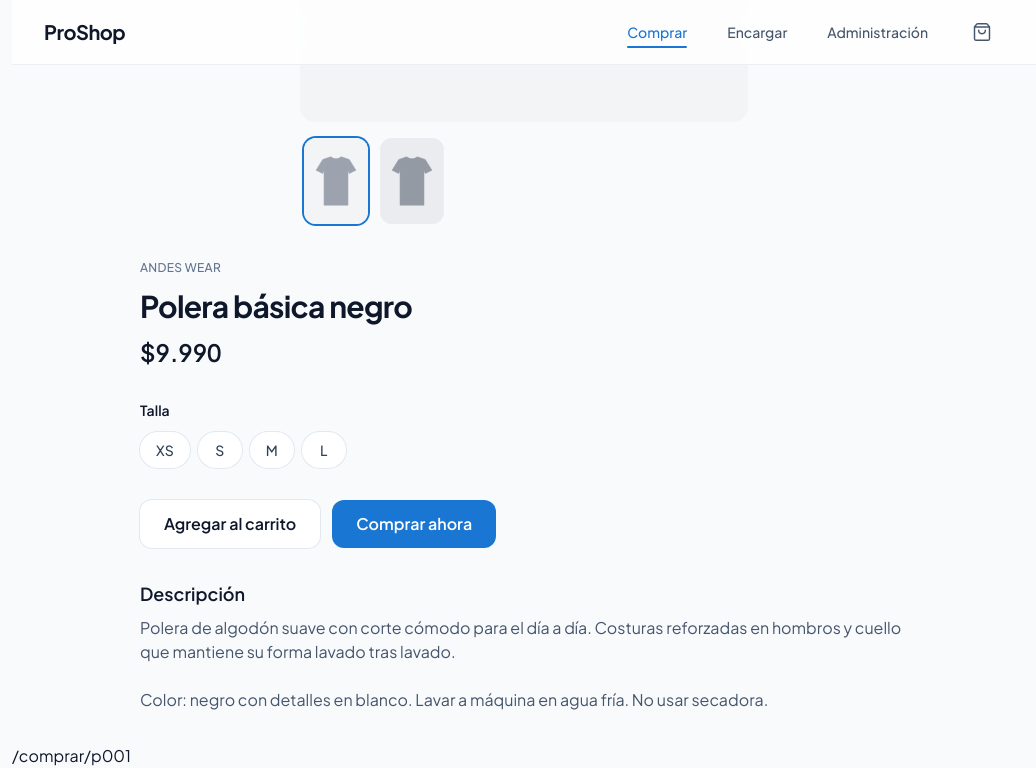
it: Carrito › sin talla, "Agregar al carrito" muestra "Selecciona una talla" y no agrega nada
(page scrolled)
Expected: the heading "Polera básica negro" is shown, [140, 287, 412, 325]
Click the button "Agregar al carrito" at (230, 524), box [140, 500, 320, 548]
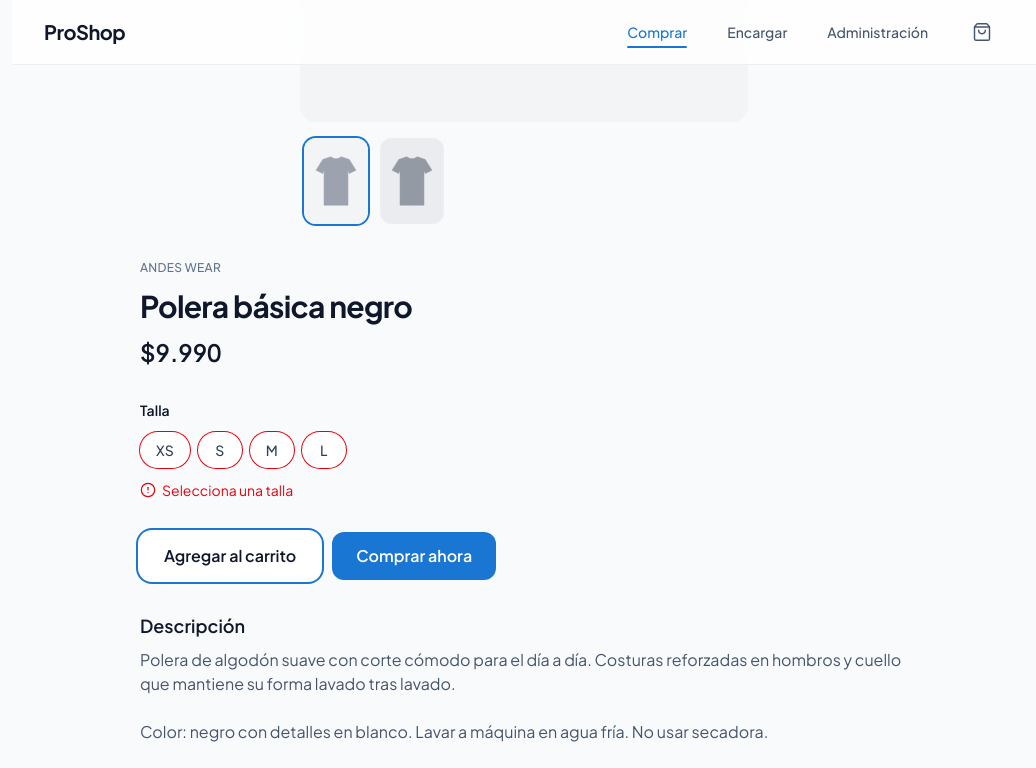
Expected: the text "Selecciona una talla" is shown, [140, 481, 293, 499]
Click the button named "Talla M" at (272, 450), box [250, 432, 294, 468]
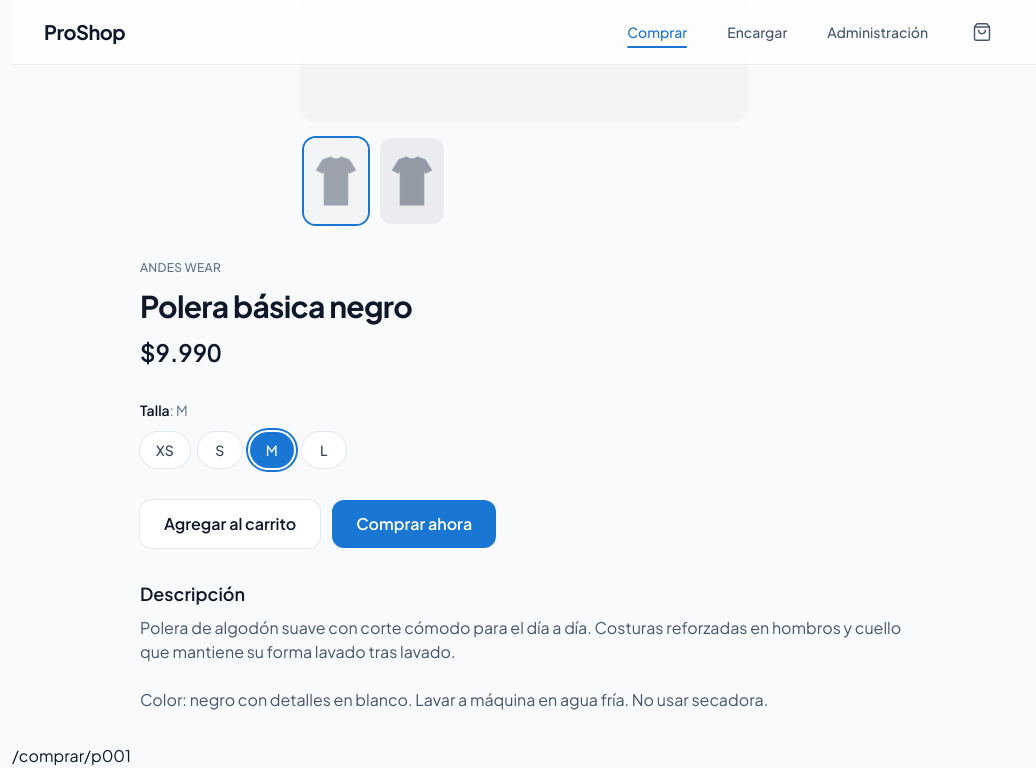
Expected: the text "Selecciona una talla" is gone
